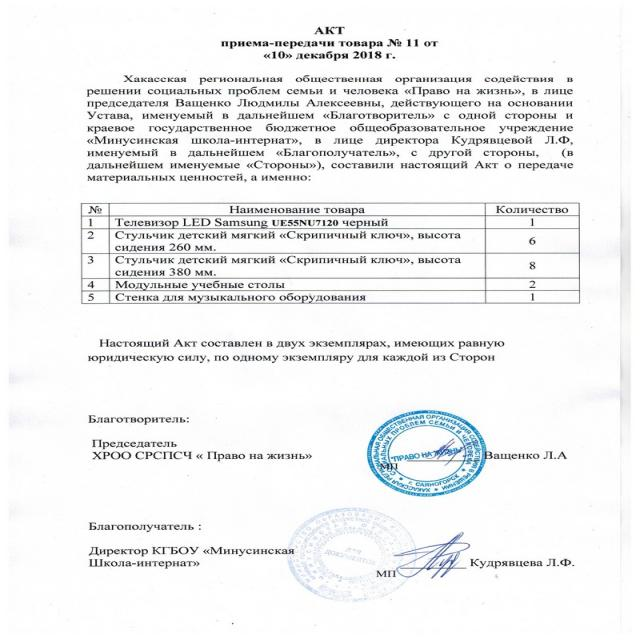stamps: (352, 393, 507, 512), (285, 503, 448, 607)
